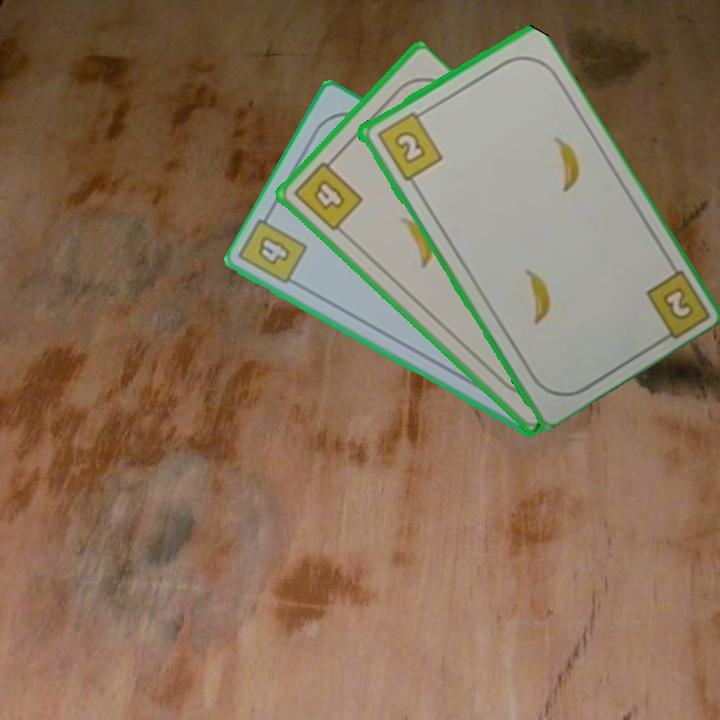2b: (373, 106, 445, 184), (658, 283, 697, 324)
4b: (289, 153, 366, 234), (253, 232, 293, 269)
